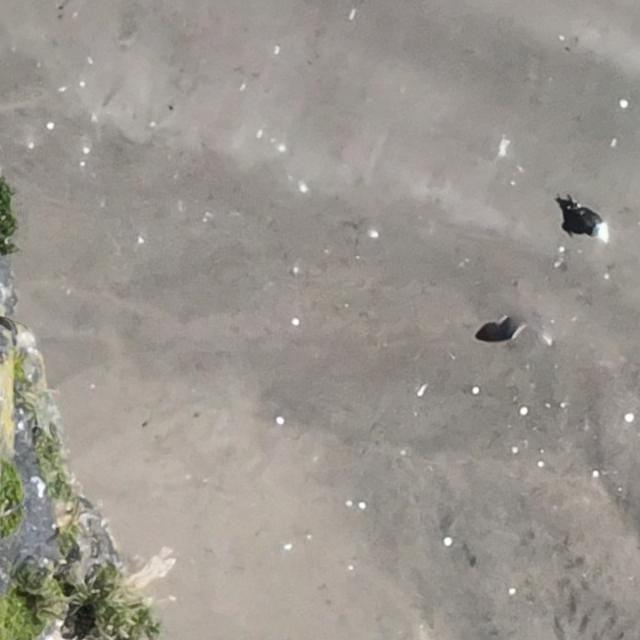umineko: (572, 202, 610, 239)
